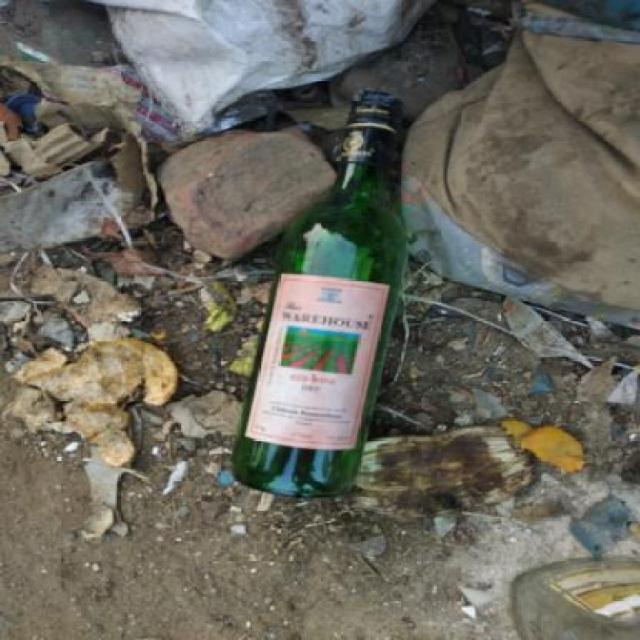garbage: (237, 88, 412, 514)
